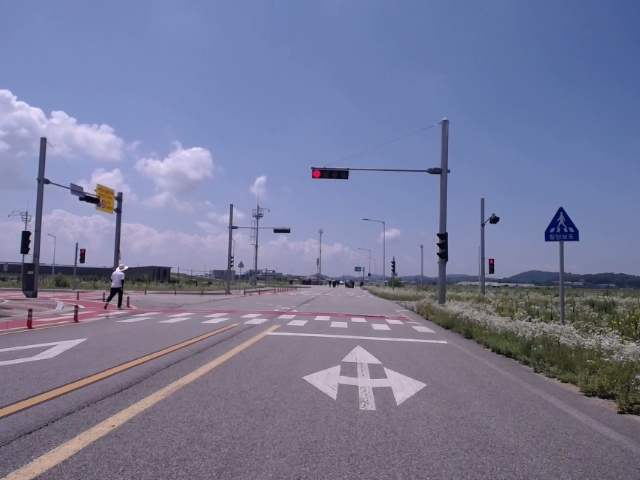red_4: (311, 169, 349, 179)
